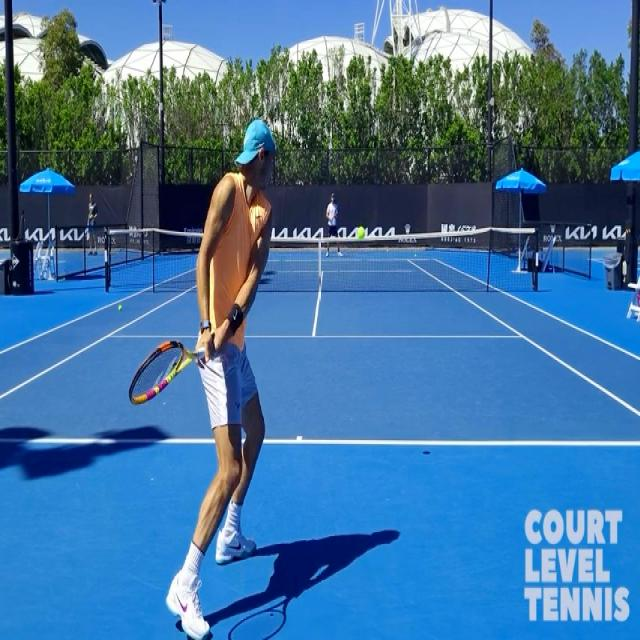backhand-stroke: (129, 117, 278, 640)
